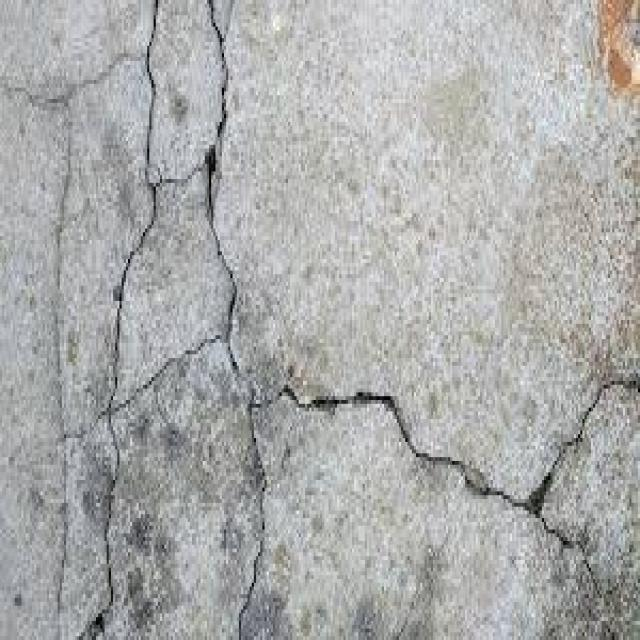Crack: (252, 370, 623, 537), (132, 23, 250, 354)
